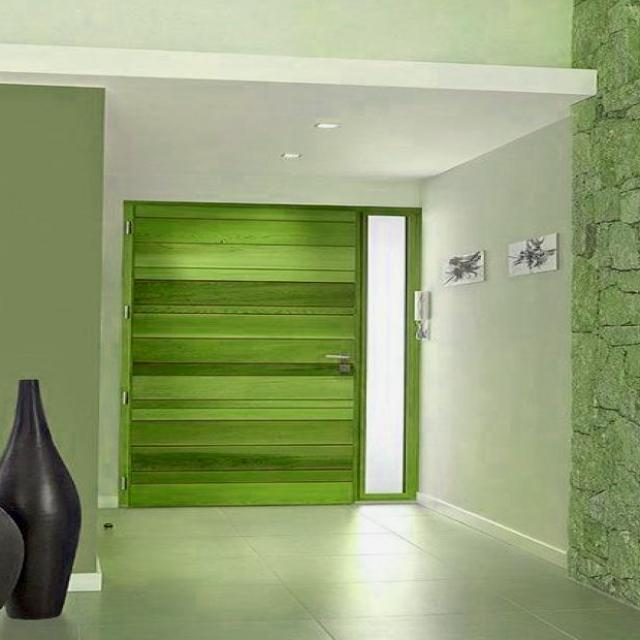door: (121, 200, 361, 500)
